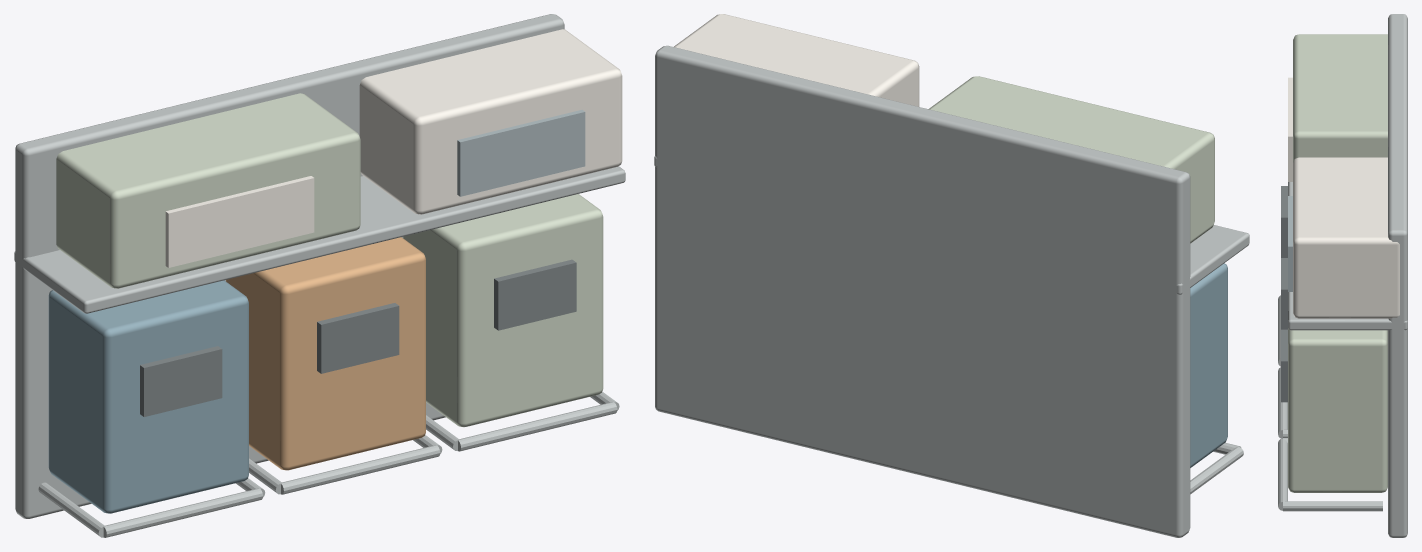
The model's file is glove-and-mask-dispenser.glb.
The picture shows the model from 3 angles, left to right: view 1: azimuth 30°, elevation 25°; view 2: azimuth 150°, elevation 25°; view 3: azimuth 270°, elevation 25°; orthographic projection. The views are drawn at different scales.
Visible parts, largest first — view 1: 105-glove-and-mask-dispenser/4, 105-glove-and-mask-dispenser/0, 105-glove-and-mask-dispenser/5, 105-glove-and-mask-dispenser/1, 105-glove-and-mask-dispenser/3, 105-glove-and-mask-dispenser/2, 105-glove-and-mask-dispenser/6; view 2: 105-glove-and-mask-dispenser/0, 105-glove-and-mask-dispenser/4, 105-glove-and-mask-dispenser/5, 105-glove-and-mask-dispenser/1; view 3: 105-glove-and-mask-dispenser/4, 105-glove-and-mask-dispenser/5, 105-glove-and-mask-dispenser/0, 105-glove-and-mask-dispenser/2, 105-glove-and-mask-dispenser/6.
Boxes of the visible parts, x1,y1,x2,y2 form: 105-glove-and-mask-dispenser/4: [56, 93, 603, 427]; 105-glove-and-mask-dispenser/0: [14, 14, 625, 537]; 105-glove-and-mask-dispenser/5: [165, 29, 622, 267]; 105-glove-and-mask-dispenser/1: [48, 280, 248, 513]; 105-glove-and-mask-dispenser/3: [226, 237, 425, 470]; 105-glove-and-mask-dispenser/2: [140, 259, 576, 416]; 105-glove-and-mask-dispenser/6: [457, 109, 585, 196]; 105-glove-and-mask-dispenser/0: [654, 45, 1249, 537]; 105-glove-and-mask-dispenser/4: [928, 76, 1214, 243]; 105-glove-and-mask-dispenser/5: [674, 14, 919, 106]; 105-glove-and-mask-dispenser/1: [1190, 263, 1227, 467]; 105-glove-and-mask-dispenser/4: [1288, 34, 1387, 492]; 105-glove-and-mask-dispenser/5: [1288, 77, 1399, 318]; 105-glove-and-mask-dispenser/0: [1278, 14, 1407, 537]; 105-glove-and-mask-dispenser/2: [1281, 186, 1287, 402]; 105-glove-and-mask-dispenser/6: [1288, 196, 1292, 291].
Size of the model in its own units: 0.5212 by 0.34 by 0.13.
